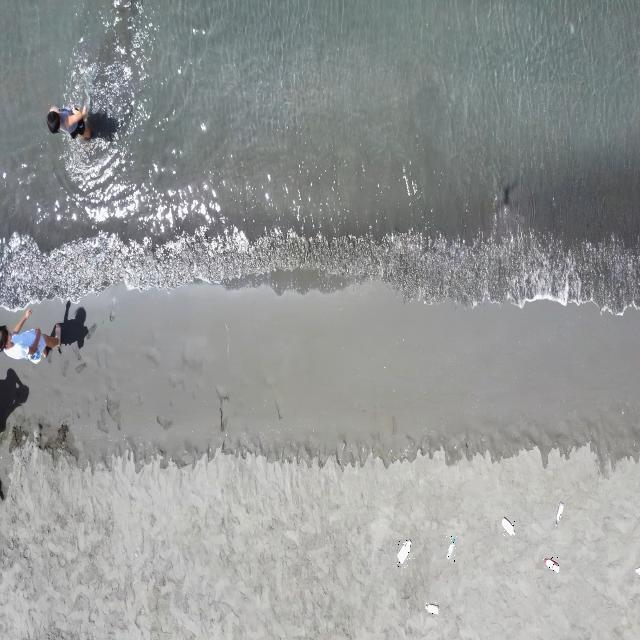Garbage: (396, 540, 409, 564), (544, 556, 559, 572), (555, 502, 563, 526), (502, 516, 512, 535), (447, 536, 455, 557), (424, 603, 437, 613), (635, 567, 639, 575)
